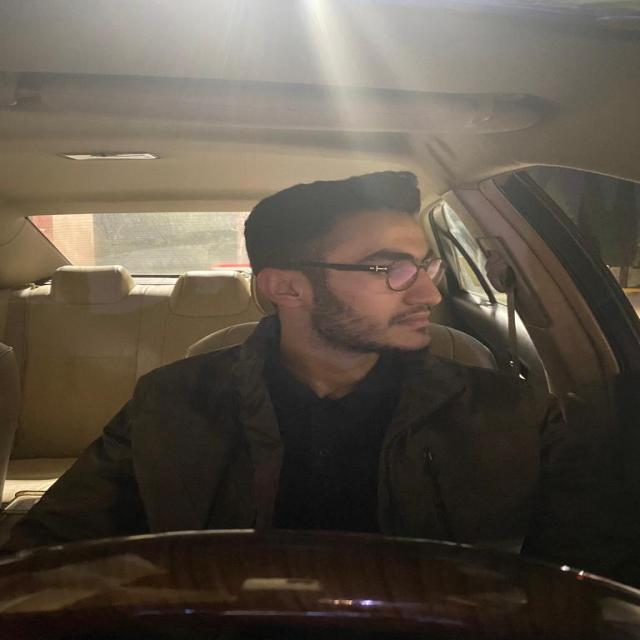LeftRight: (239, 168, 446, 358)
